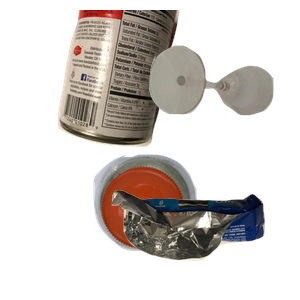glass: (147, 43, 300, 151)
metal: (55, 10, 227, 149)
plastic: (91, 152, 281, 300)
trash: (109, 187, 300, 300)
